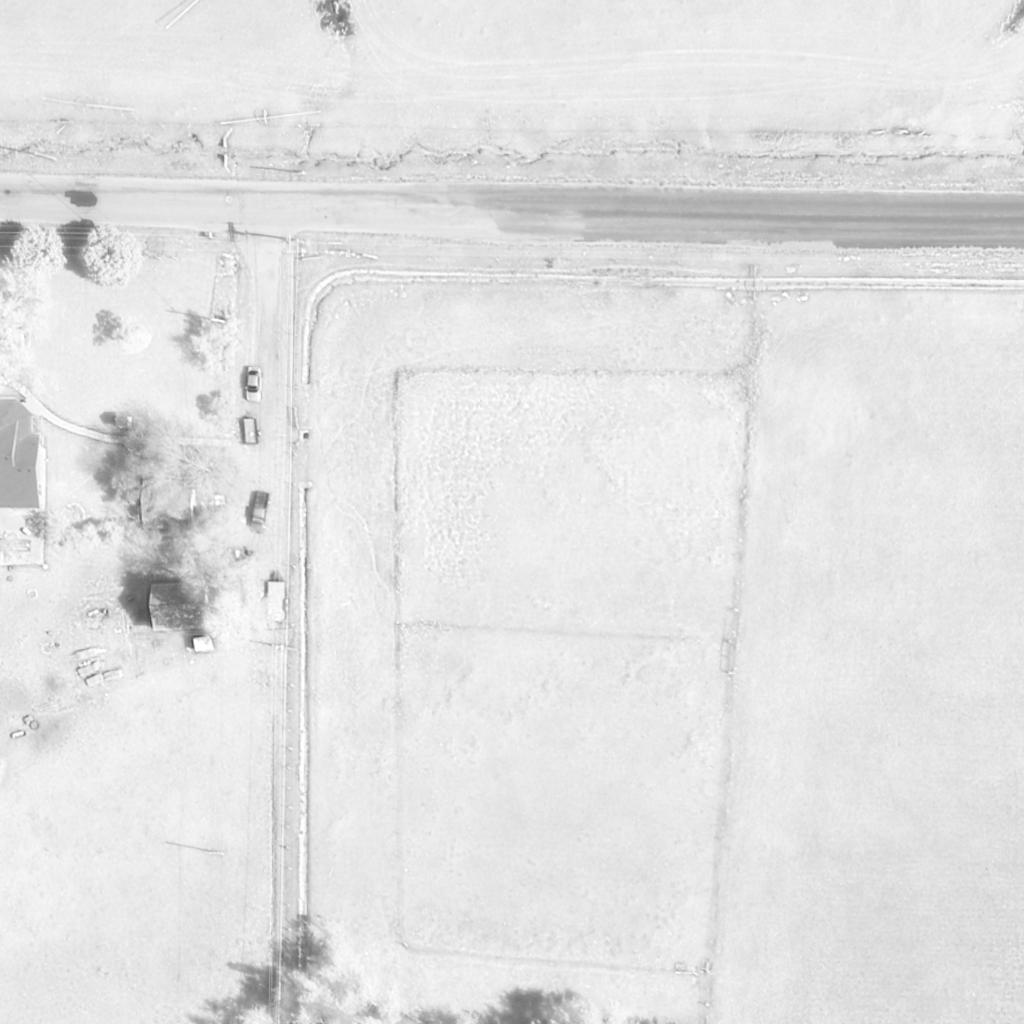vehicle: (250, 491, 272, 535), (247, 368, 263, 402)
